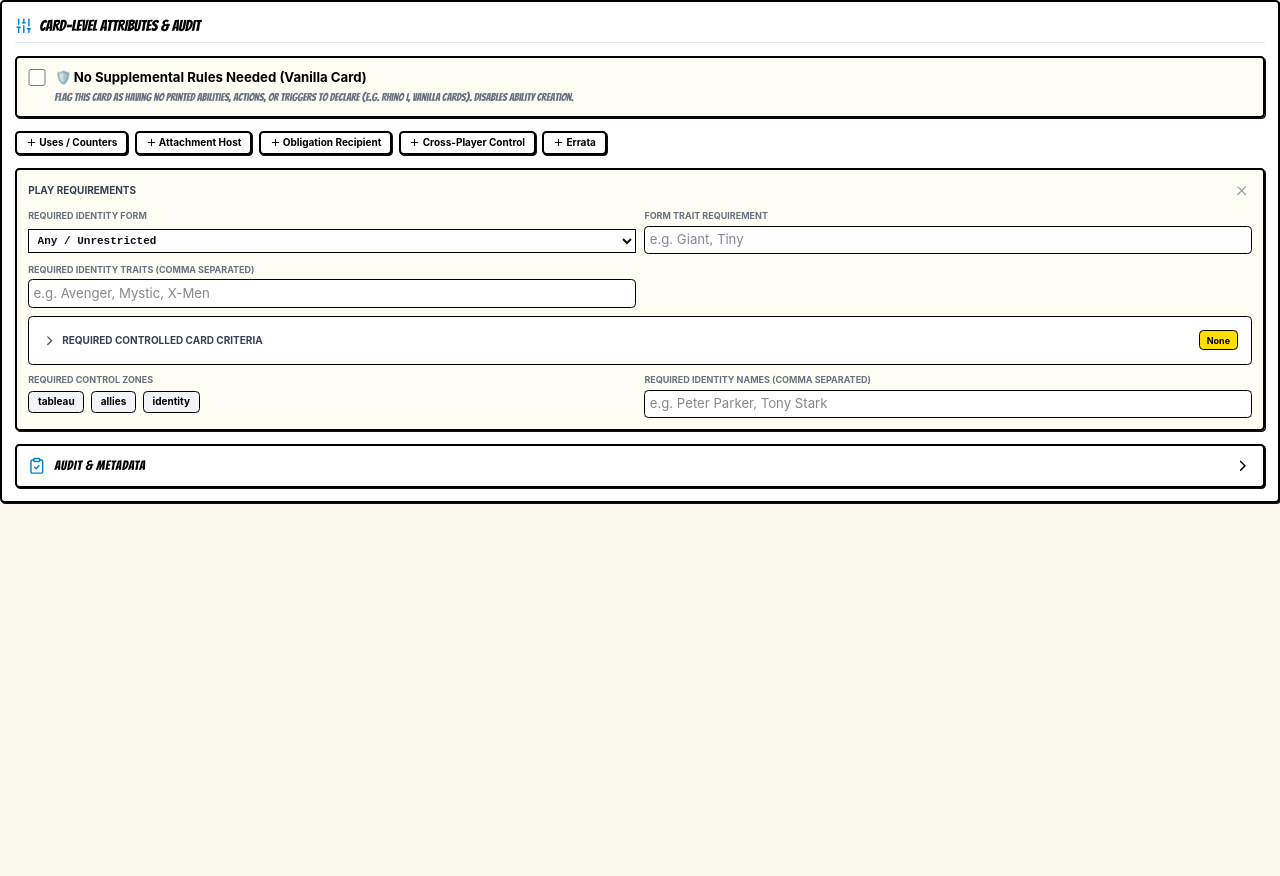
Test: CardAttributesSection card-level chip bar › configures play requirements (identity form, traits, names, zones)
Select "HERO" in the dropdown with test id "play-req-identity-form" at (332, 241), box [28,229,636,254]
Type "Giant" into the field with test id "play-req-form-trait" at (948, 240), box [644,226,1252,254]
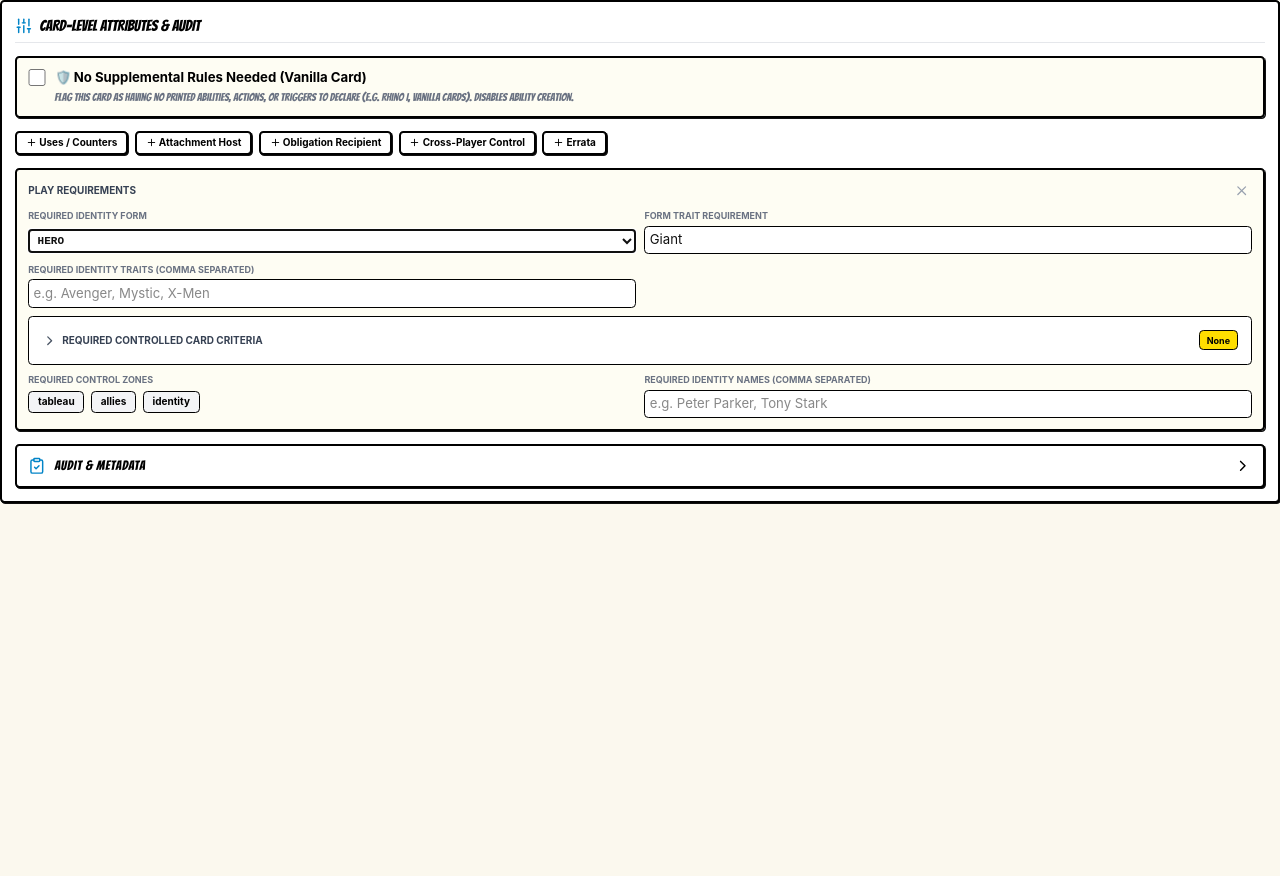
Type "Avenger, Mystic" into the field with test id "play-req-identity-traits" at (332, 293), box [28,279,636,308]
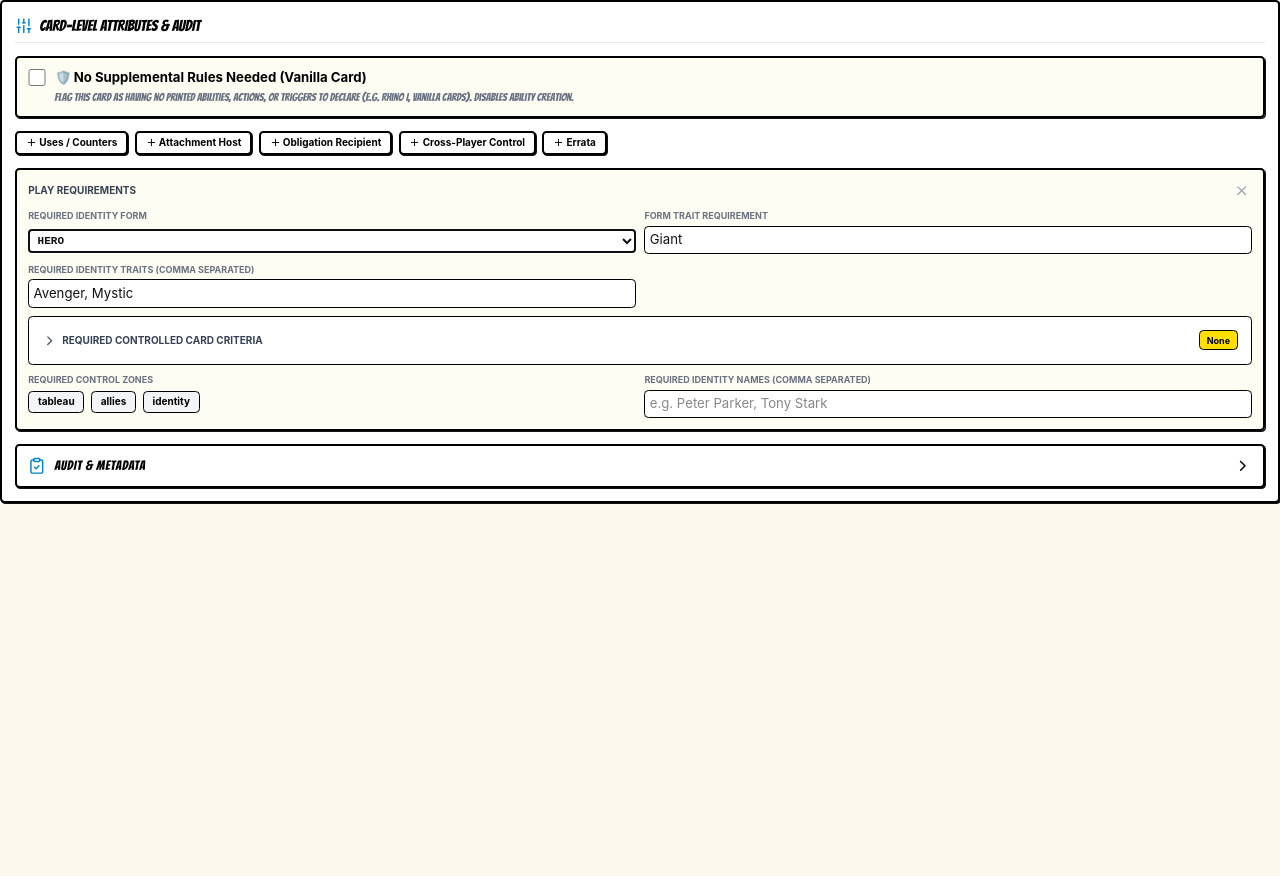
Type "Peter Parker, Tony Stark" into the field with test id "play-req-identity-names" at (948, 404), box [644,390,1252,418]
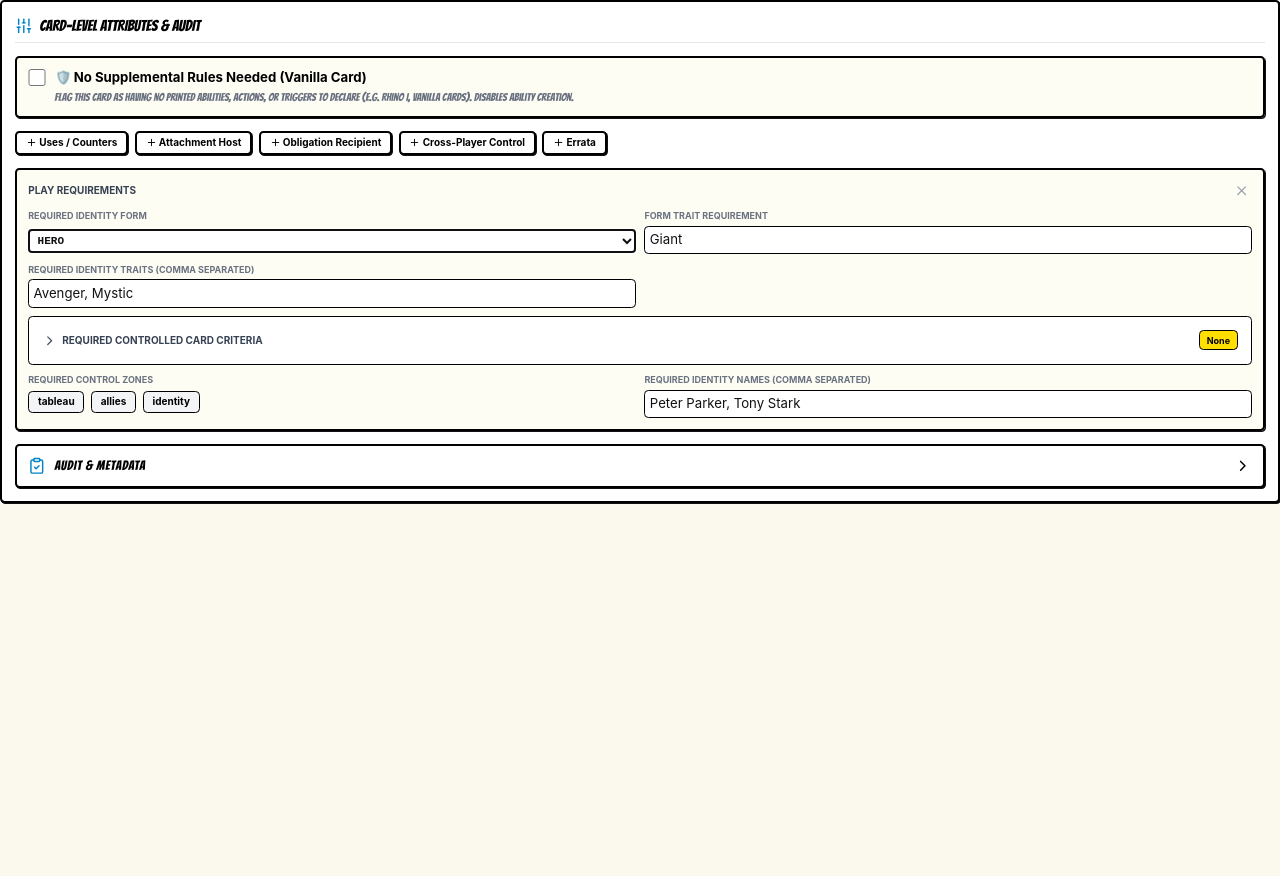
Click the button with test id "play-req-control-zones-tableau" at (56, 402), box [28,391,84,413]
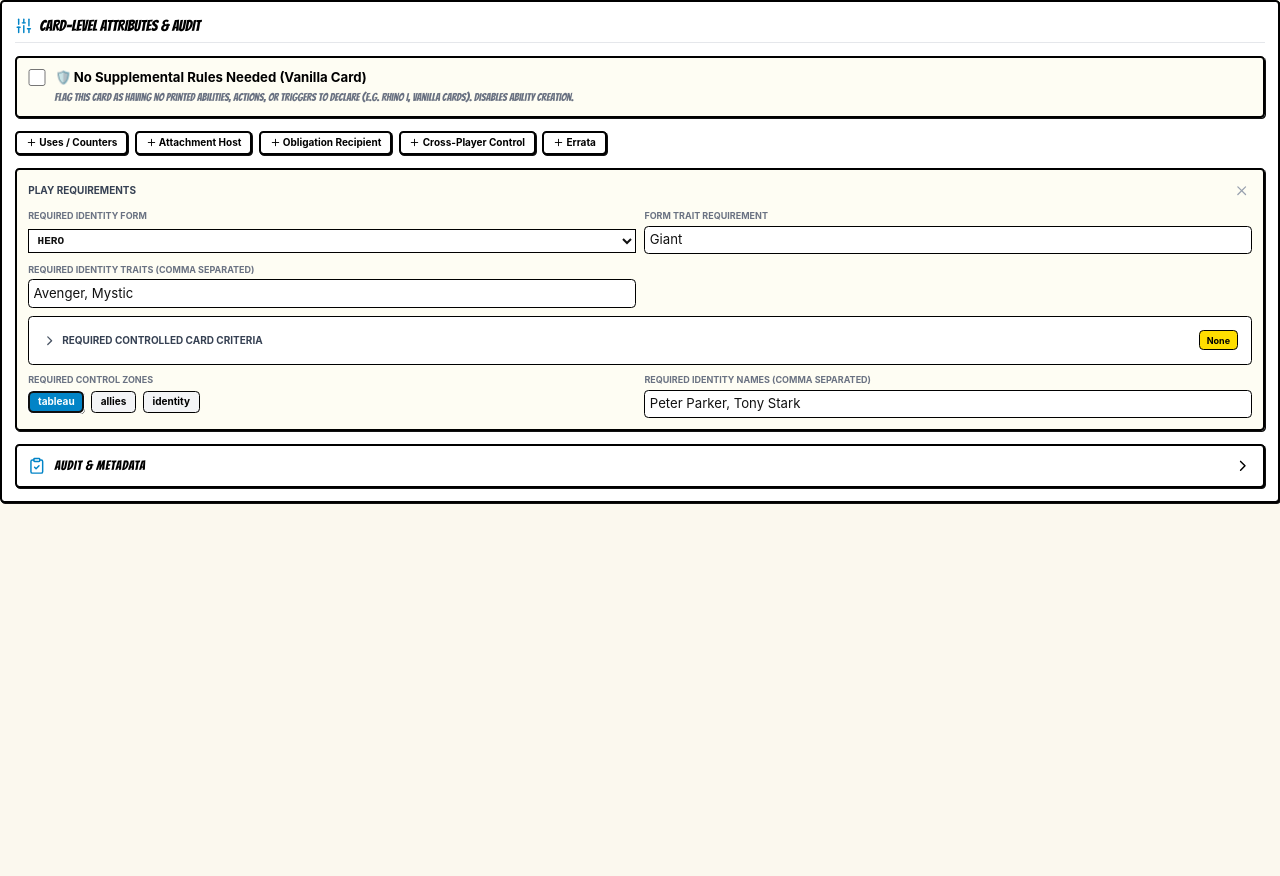
Click the button with test id "play-req-control-zones-allies" at (114, 402), box [91,391,136,413]
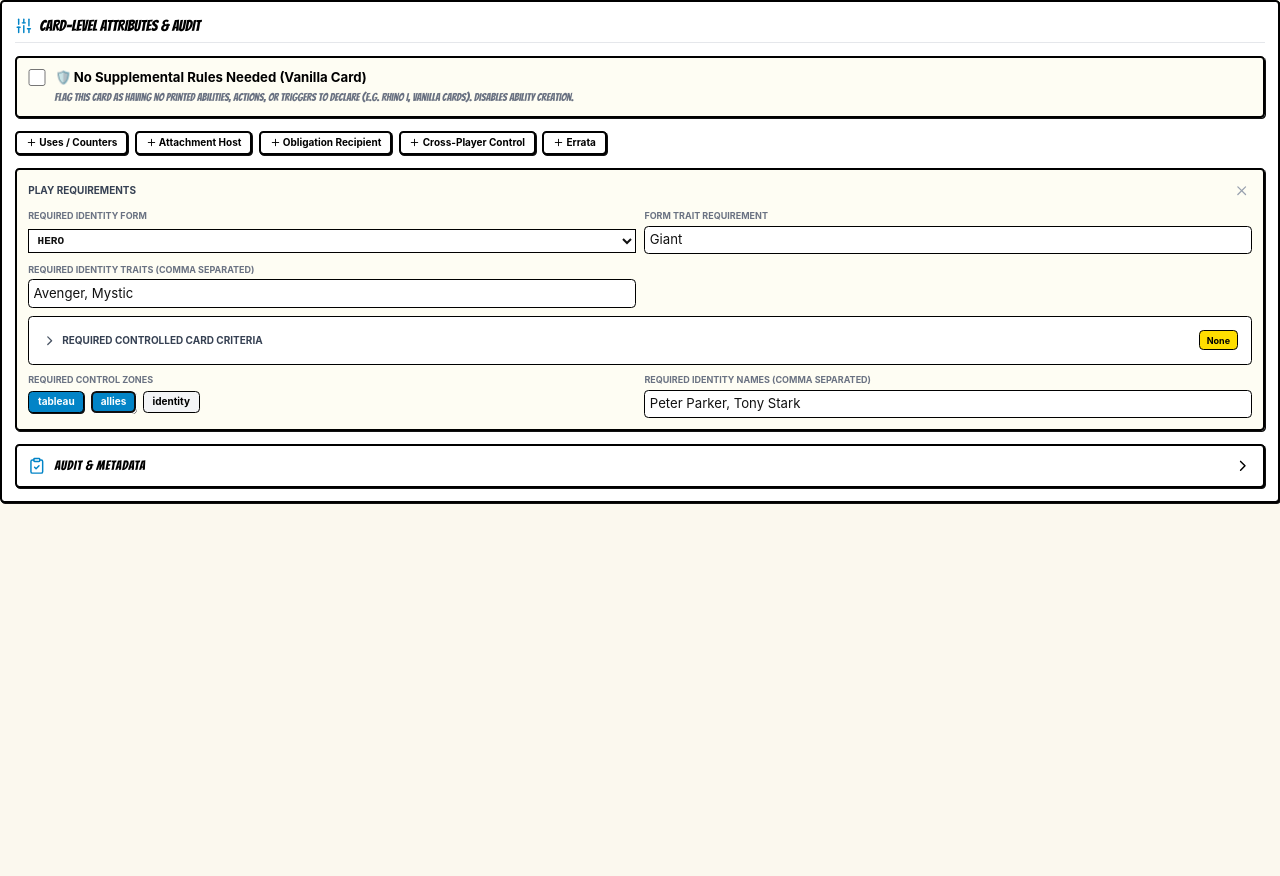
The controlled-card criteria is a card-filter field
Click the element with test id "play-req-control-filter-toggle" at (162, 340), box [38,326,1242,355]
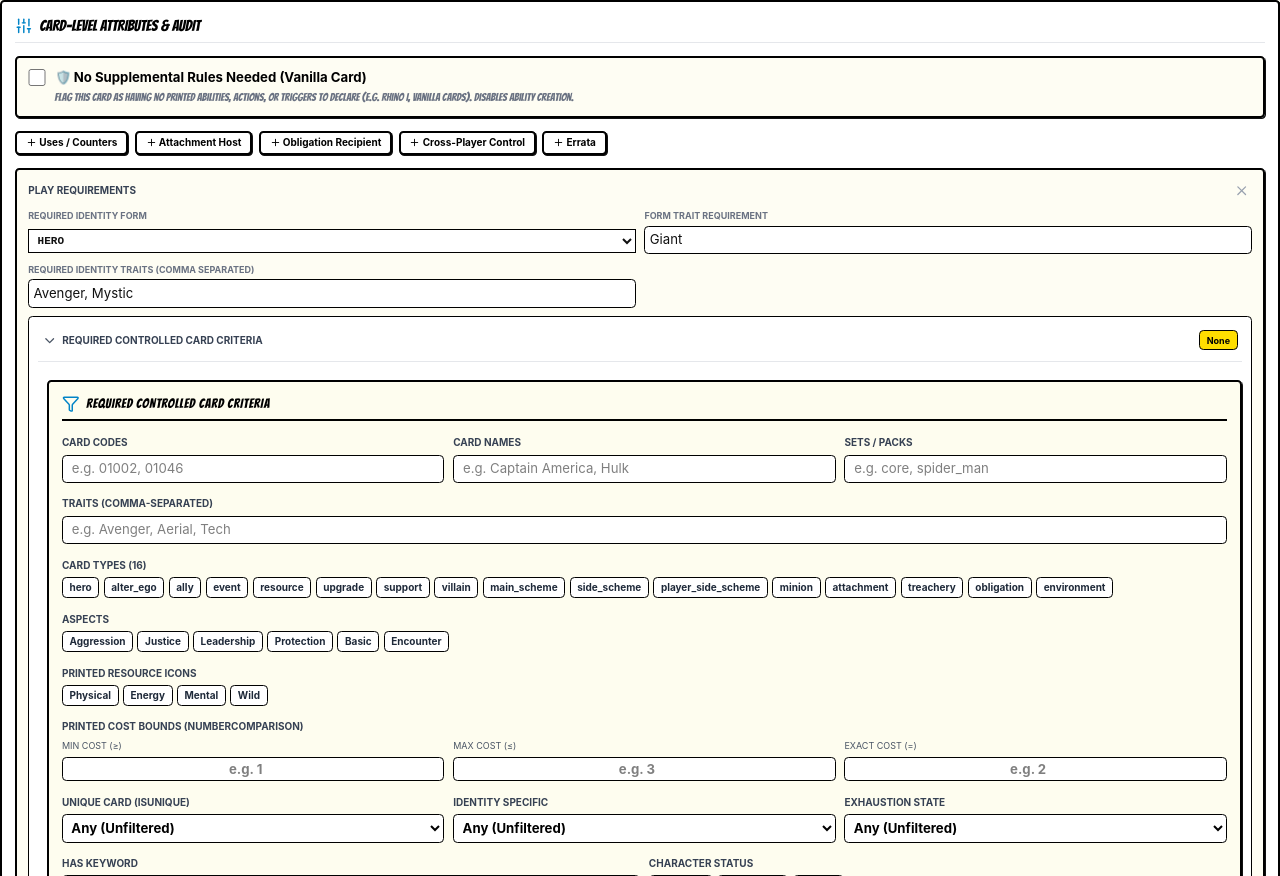
Expected: the field with test id "filter-codes-input" is shown, [62,454,444,483]
